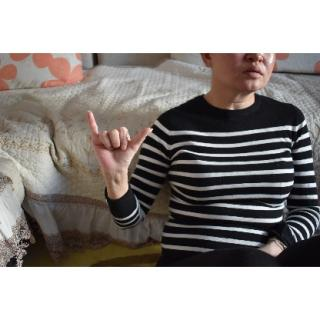YA: (85, 107, 154, 171)
